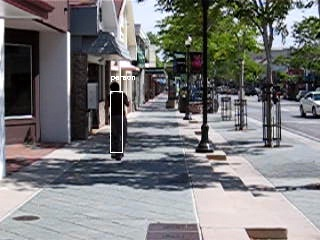person: (103, 82, 128, 160), (102, 82, 127, 160), (104, 82, 129, 160), (103, 81, 128, 159), (103, 83, 128, 161)
target_negative: (235, 120, 317, 233), (221, 72, 244, 191), (113, 210, 303, 223), (240, 150, 308, 180), (22, 130, 36, 133)
